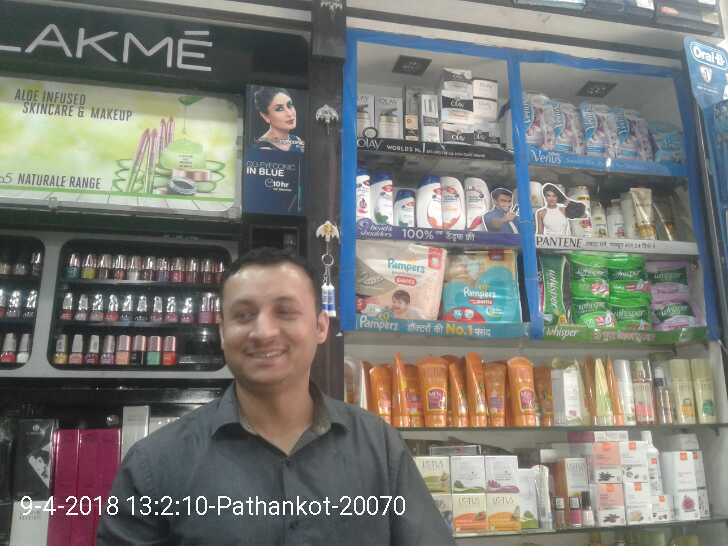venus: (615, 105, 654, 160), (554, 95, 585, 156), (585, 105, 615, 156), (528, 95, 554, 151), (654, 121, 684, 160)
